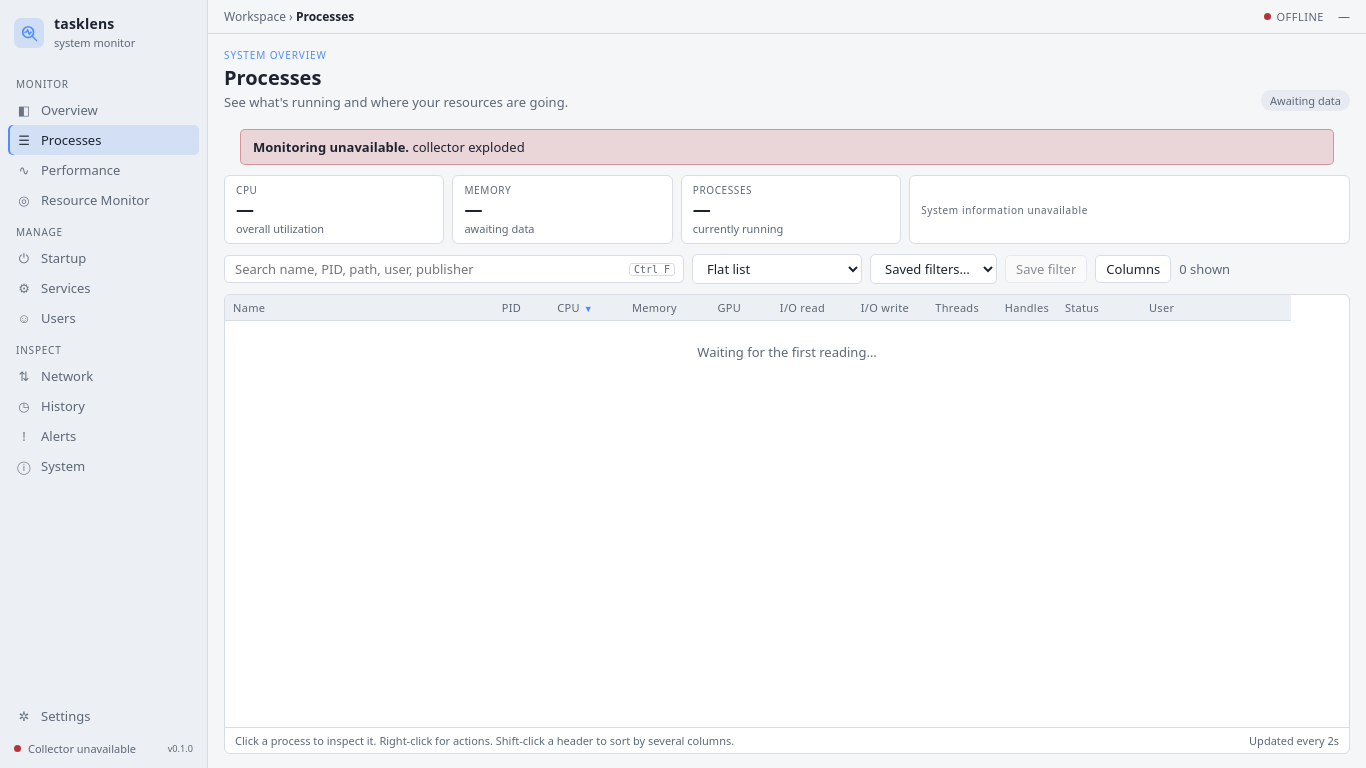
Scenario: App › shows an error state when the collector fails, and keeps the app usable
This screenshot has width=1366, height=768.
Expected: the text "Monitoring unavailable." is shown, [253,138,409,156]
Expected: the text "Monitoring unavailable. collector exploded" is shown, [240,129,1334,165]
Step 1. Click the button "⚙ Services" → (104, 288), box [8,273,199,303]
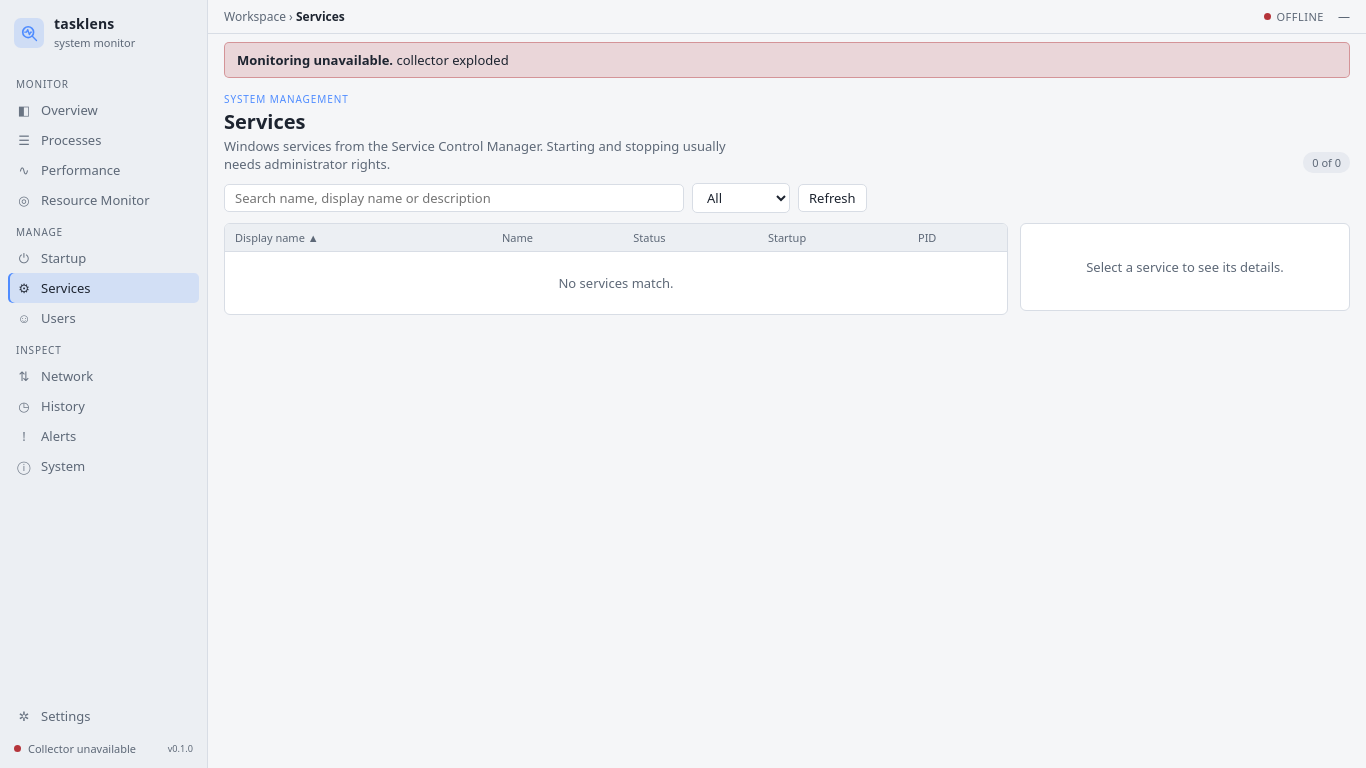
Expected: the heading "Services" is shown, [224,108,306,135]
